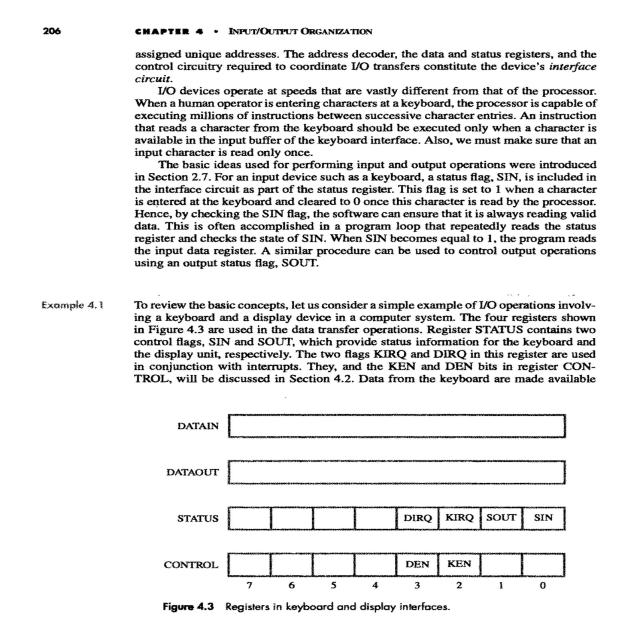diagram: (86, 395, 621, 640)
